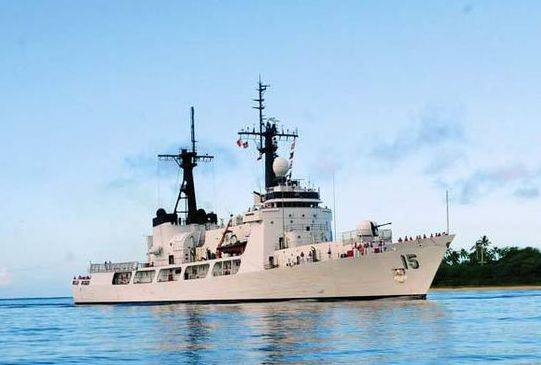warship: (69, 74, 469, 309)
